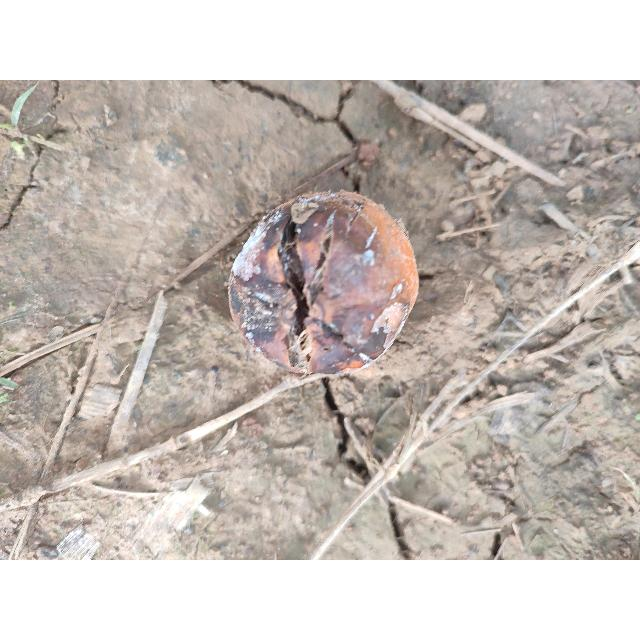damaged: (225, 191, 420, 377)
